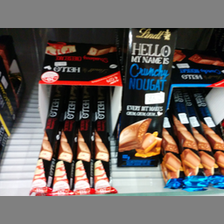chocolate: (121, 27, 174, 168), (174, 94, 224, 181), (32, 99, 54, 196), (54, 97, 75, 195), (76, 92, 94, 196), (96, 89, 111, 194)
